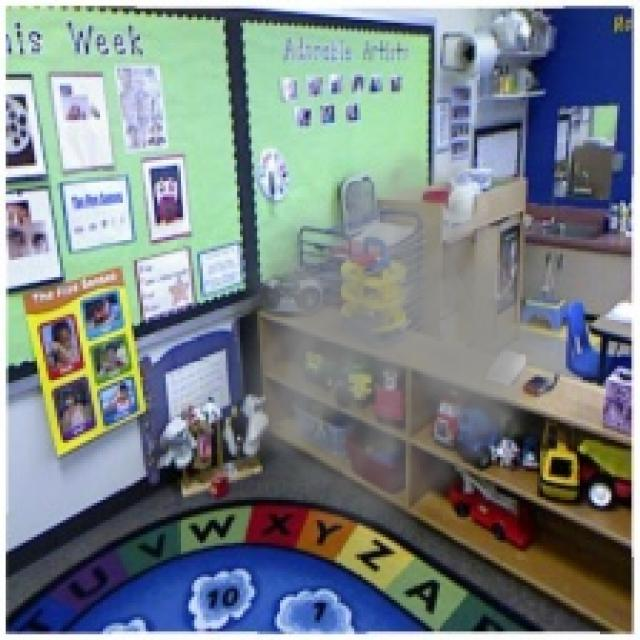smoke: (220, 132, 609, 552)
